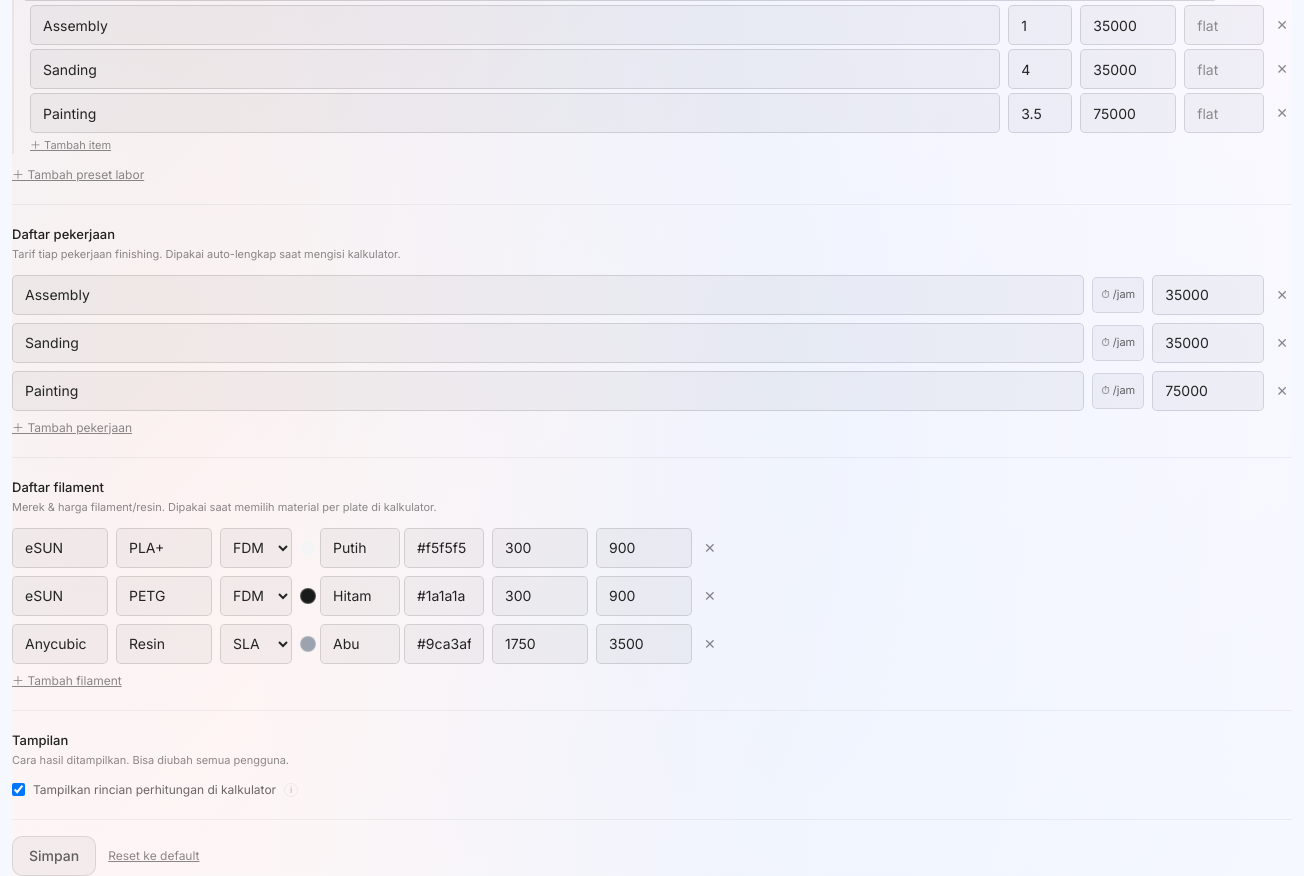
Test: SettingsPanel daftar pekerjaan › render job dari katalog + bisa tambah (Pro)
(page scrolled)
Expected: the heading "Daftar pekerjaan" is shown, [12,226,115,242]
Click the button "＋ Tambah pekerjaan" at (72, 428), box [12,418,132,436]
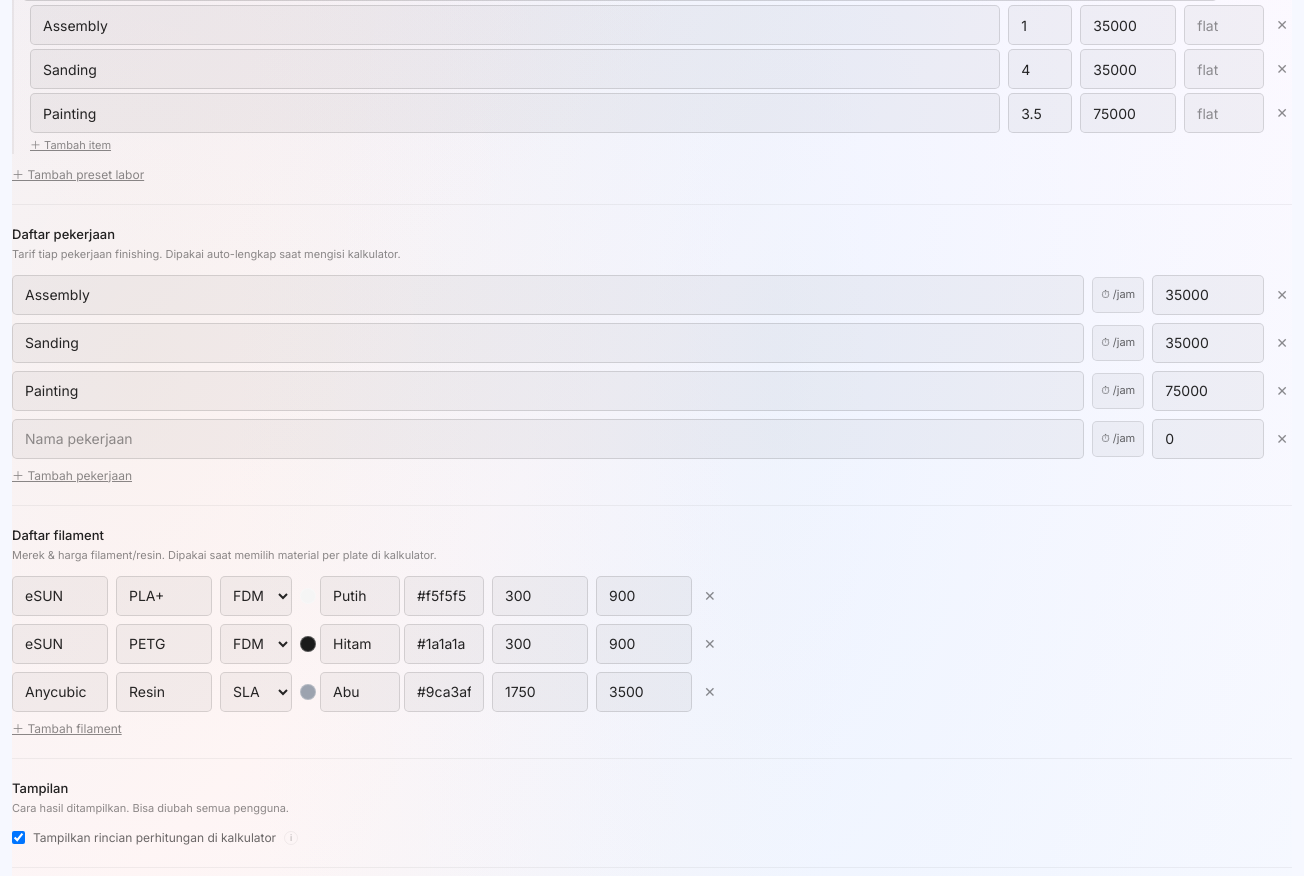
Now the number of fields with placeholder "Nama pekerjaan" is 4, box [12,274,1084,314]; [12,322,1084,362]; [12,370,1084,410]; [12,418,1084,458]
